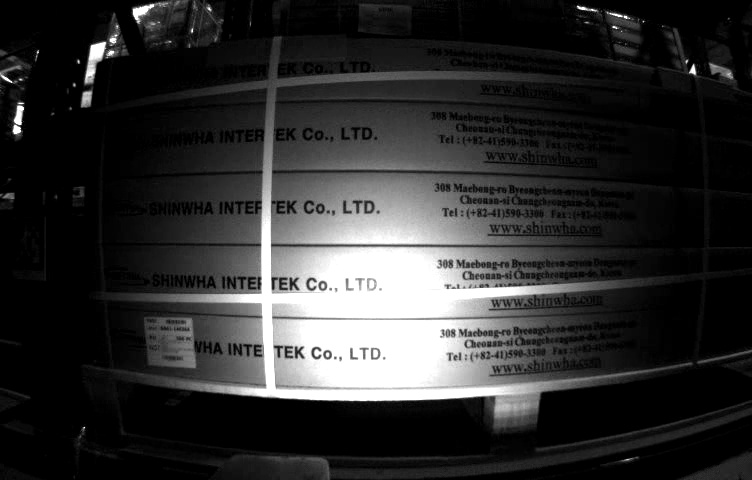True Barcode: (142, 315, 197, 370)
